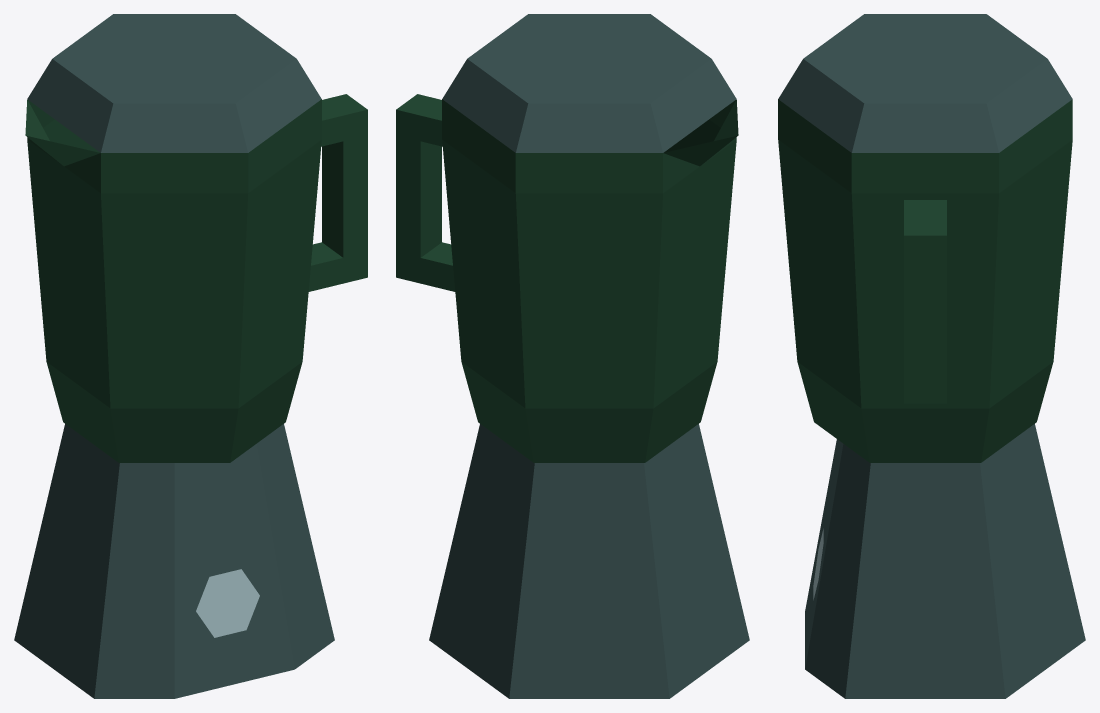
Rendered from kitchenBlender.glb.
The picture shows the model from 3 angles, left to right: view 1: azimuth 30°, elevation 25°; view 2: azimuth 150°, elevation 25°; view 3: azimuth 270°, elevation 25°; orthographic projection.
Parts seen in each view (by area): view 1: blenderCup, kitchenBlender(Clone), blenderTop; view 2: blenderCup, kitchenBlender(Clone), blenderTop; view 3: blenderCup, kitchenBlender(Clone), blenderTop.
Part boxes in pixels (x1,y1,x2,y2): blenderCup: (25,94,367,462); kitchenBlender(Clone): (14,424,334,698); blenderTop: (27,14,321,152); blenderCup: (396,94,738,462); kitchenBlender(Clone): (429,424,749,698); blenderTop: (442,14,736,152); blenderCup: (778,99,1072,462); kitchenBlender(Clone): (805,424,1085,698); blenderTop: (778,14,1072,152).
Size of the model in its own units: 0.1358 by 0.2275 by 0.1091.
Materials: 3 (3 with a texture image).
